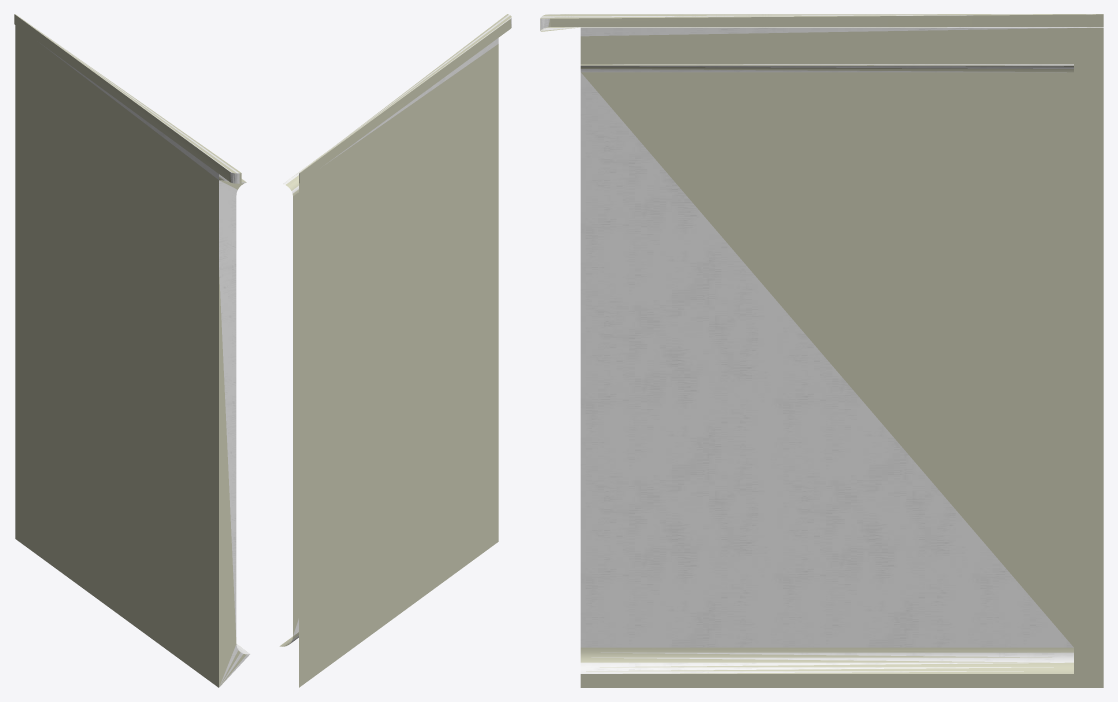
File: original-4-left.obj
3 views of the same model, side by side, from view 1: azimuth 30°, elevation 25°; view 2: azimuth 150°, elevation 25°; view 3: azimuth 270°, elevation 25° (orthographic). The views are drawn at different scales.
Visible parts, largest first — view 1: mesh6/mesh6-geometry#mesh6-geometry.001; view 2: mesh6/mesh6-geometry#mesh6-geometry.001; view 3: mesh6/mesh6-geometry#mesh6-geometry.001.
Part boxes in pixels (<box>): mesh6/mesh6-geometry#mesh6-geometry.001: <box>14,14,249,687</box>; mesh6/mesh6-geometry#mesh6-geometry.001: <box>279,14,511,687</box>; mesh6/mesh6-geometry#mesh6-geometry.001: <box>540,14,1103,687</box>.
Bounding box in the file's own units: 0.0885 × 1.38 × 1.04.
2 materials, 1 textured.
